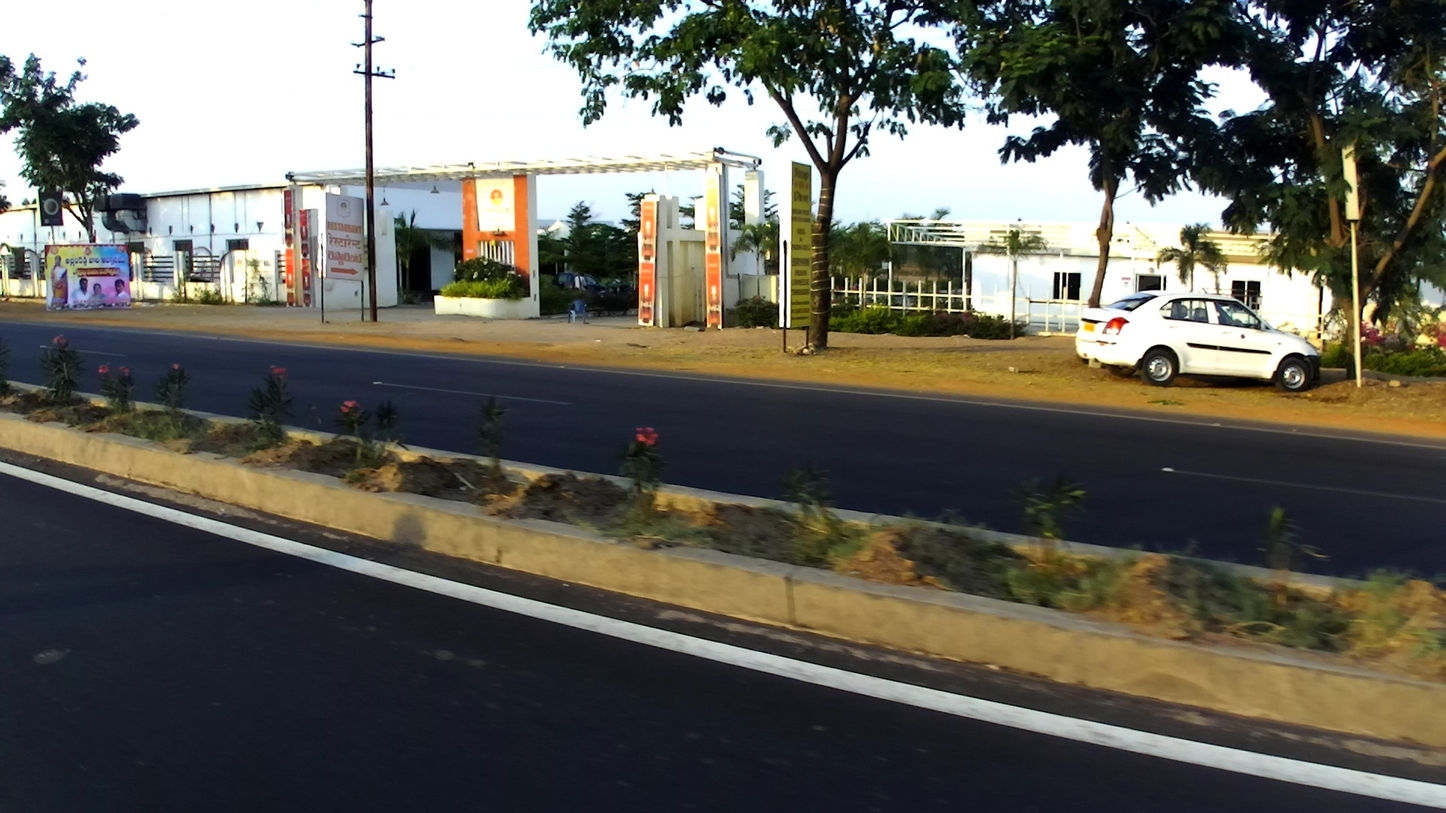car: (1075, 288, 1324, 392)
